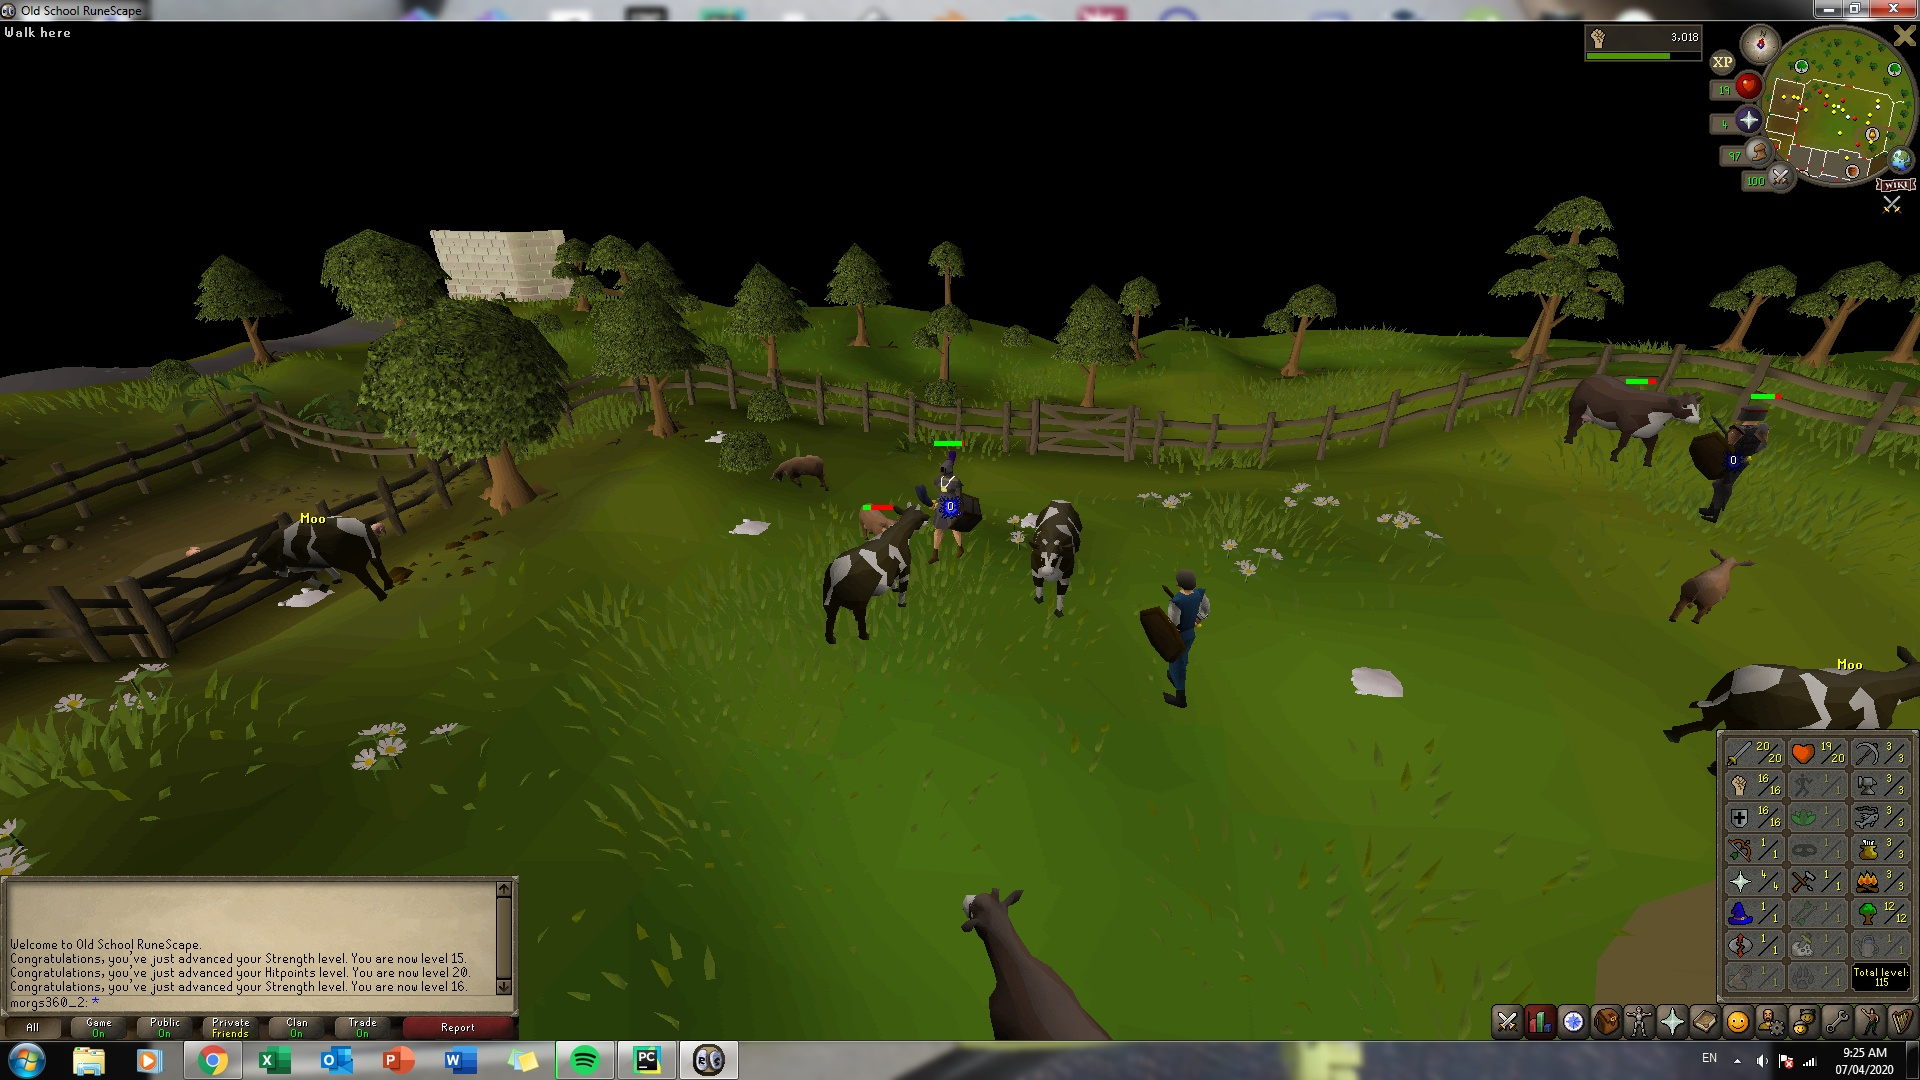cow: (948, 880, 1113, 1040), (1672, 644, 1915, 731), (818, 502, 928, 655), (247, 512, 397, 608), (1563, 371, 1702, 473), (1019, 496, 1087, 622)
